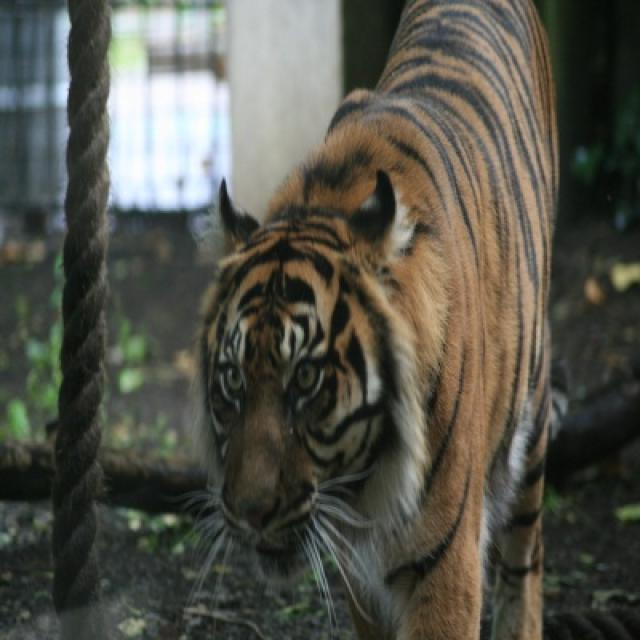Tiger: (198, 0, 558, 638)
